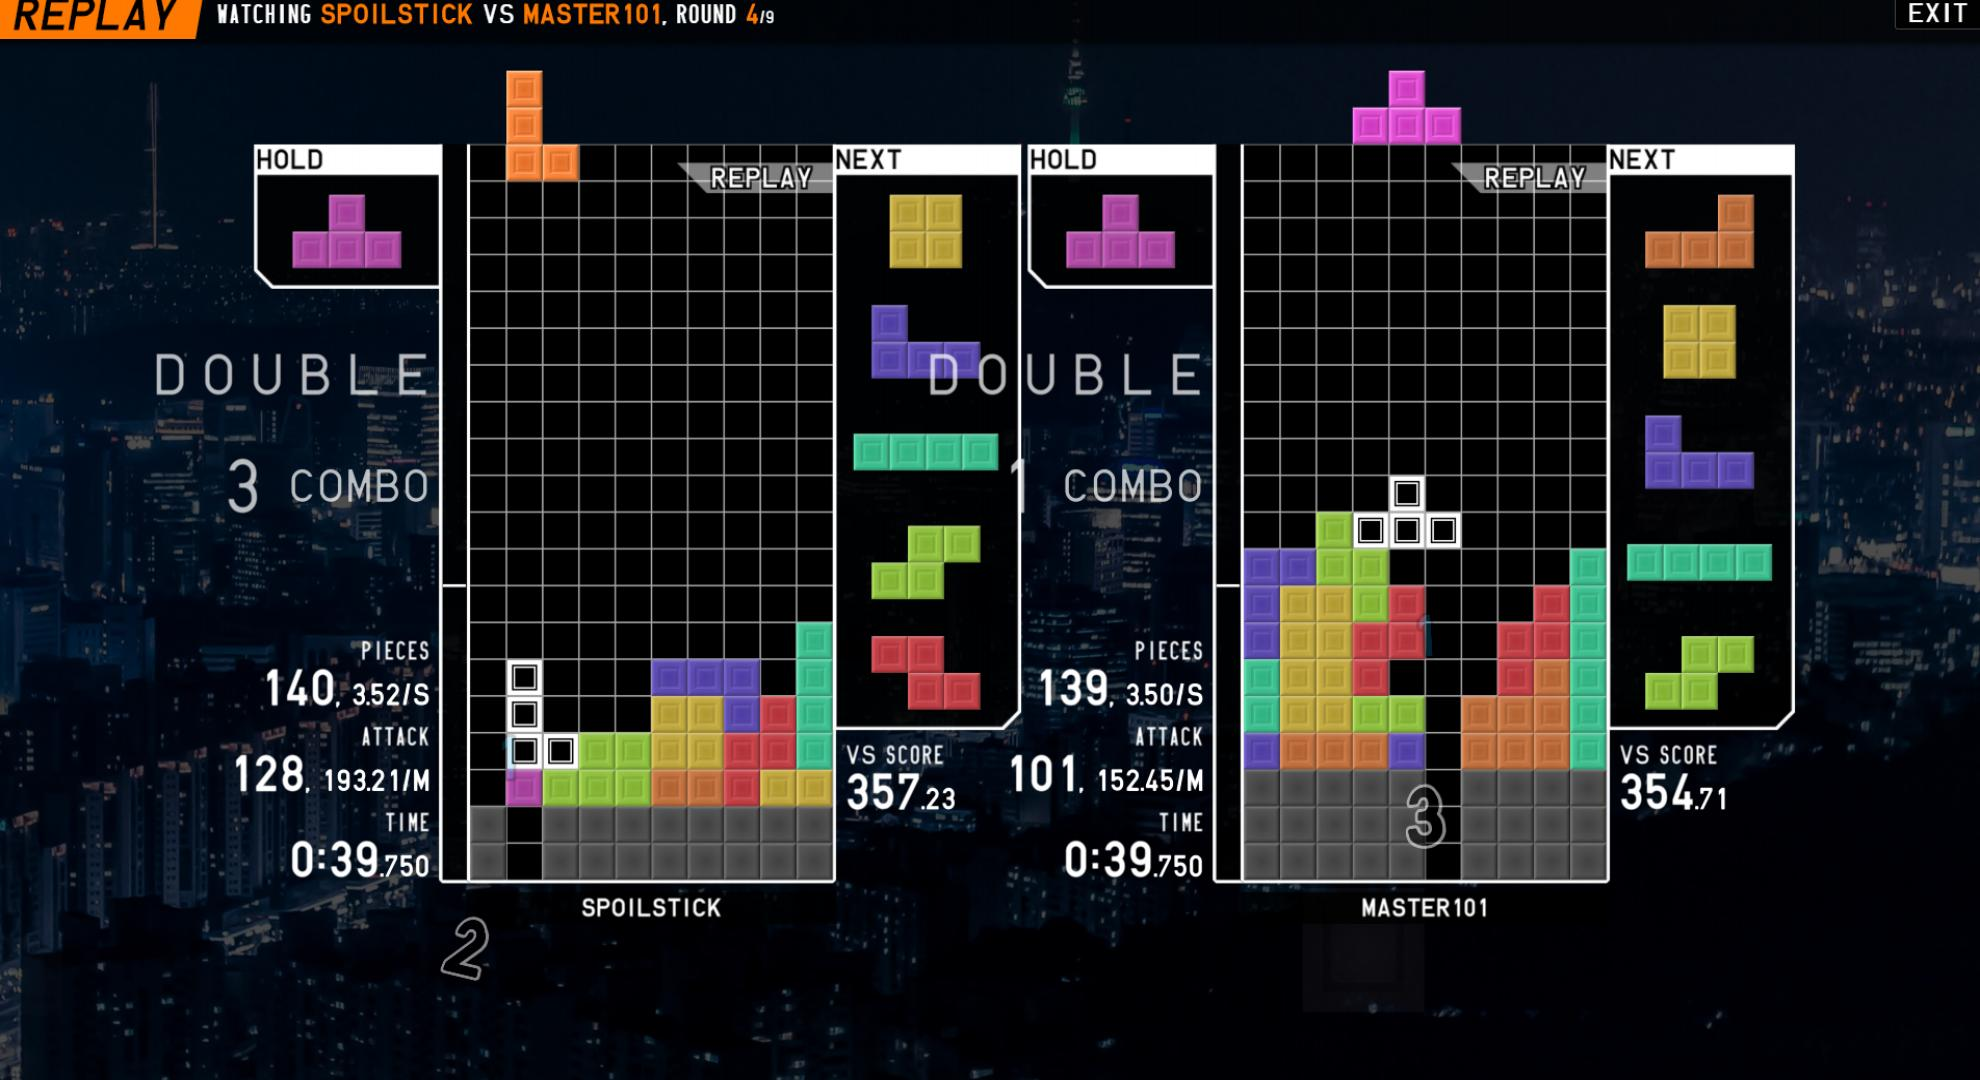tspin: (1386, 616, 1496, 737)
